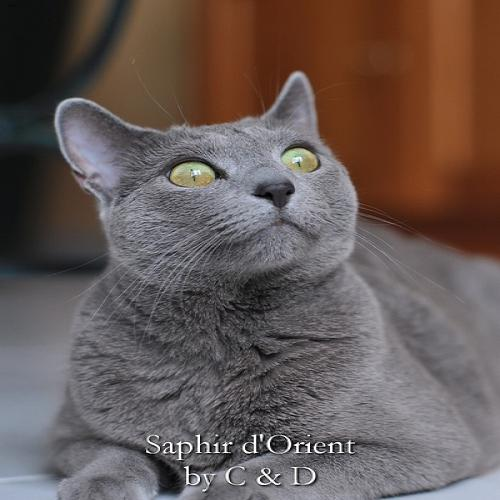rblue: (43, 63, 387, 298)
